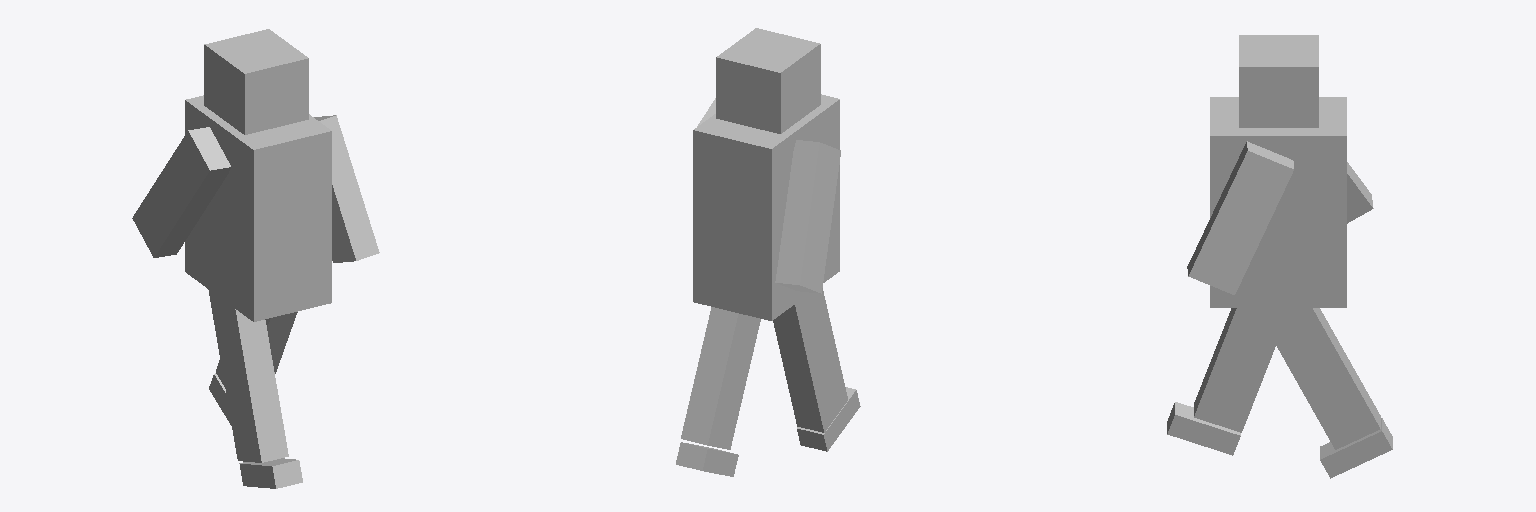
File: man2.obj
The picture shows the model from 3 angles: view 1: azimuth 30°, elevation 25°; view 2: azimuth 150°, elevation 25°; view 3: azimuth 270°, elevation 25°; orthographic projection.
Visible parts, largest first — view 1: body; view 2: body; view 3: body.
Boxes of the visible parts, x1=… form: body: x1=132, y1=29, x2=379, y2=488; body: x1=676, y1=28, x2=860, y2=476; body: x1=1167, y1=35, x2=1392, y2=478.
Bounding box in the file's own units: 20.64 × 51.9 × 25.86.